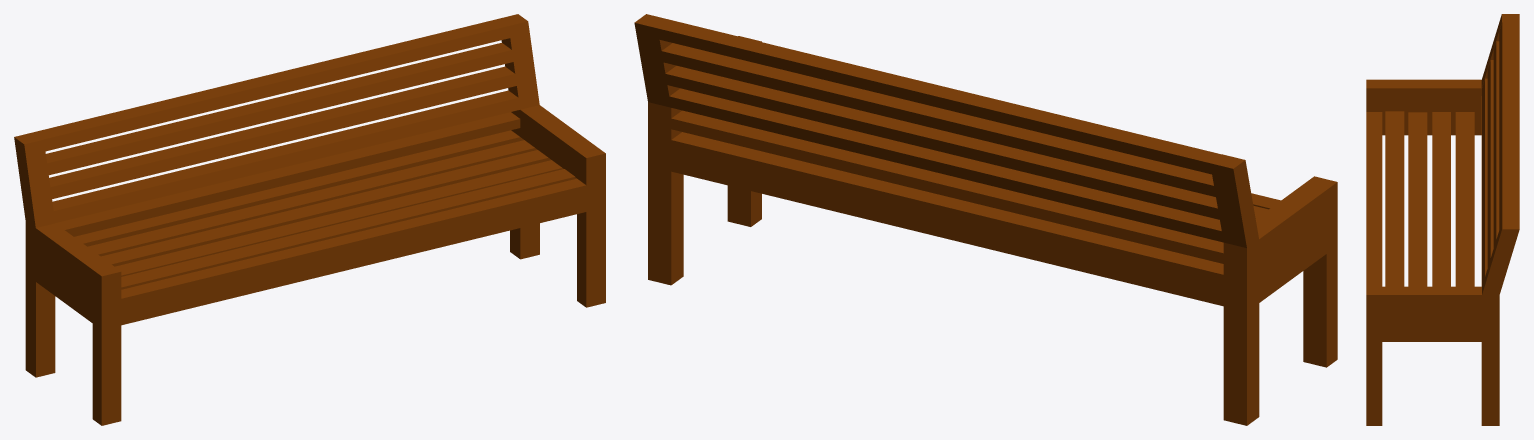
Rendered from Bench.fbx.
The picture shows the model from 3 angles, left to right: view 1: azimuth 30°, elevation 25°; view 2: azimuth 150°, elevation 25°; view 3: azimuth 270°, elevation 25°; orthographic projection. The views are drawn at different scales.
Visible parts, largest first — view 1: Cube; view 2: Cube; view 3: Cube.
Boxes of the visible parts, bbox=[...] form: Cube: bbox=[14, 14, 605, 425]; Cube: bbox=[634, 14, 1337, 425]; Cube: bbox=[1366, 14, 1519, 425].
Bounding box in the file's own units: 764 × 325 × 230.
